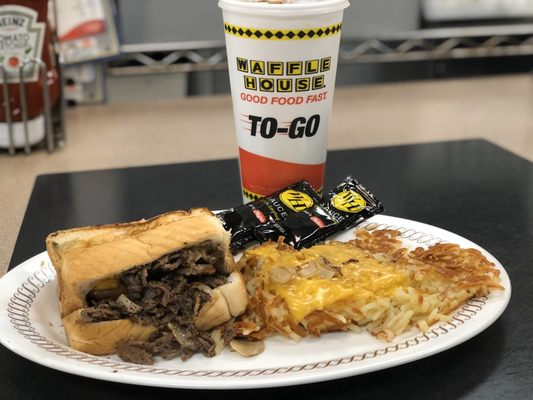soup: (45, 207, 248, 362)
